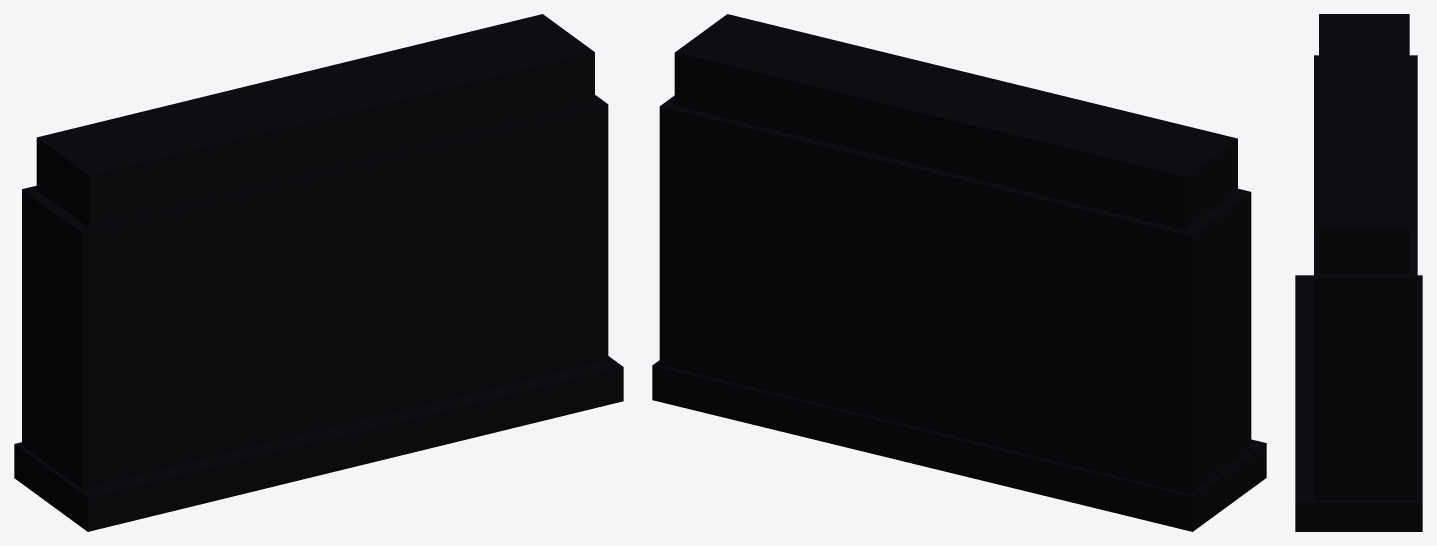
File: COL_ModeBoard_Body.glb
3 views of the same model, side by side, from view 1: azimuth 30°, elevation 25°; view 2: azimuth 150°, elevation 25°; view 3: azimuth 270°, elevation 25° (orthographic). The views are drawn at different scales.
Visible parts, largest first — view 1: COL_ModeBoard_MainGantryHull, COL_ModeBoard_CanopyHull, COL_ModeBoard_BaseHull; view 2: COL_ModeBoard_MainGantryHull, COL_ModeBoard_CanopyHull, COL_ModeBoard_BaseHull; view 3: COL_ModeBoard_MainGantryHull, COL_ModeBoard_CanopyHull, COL_ModeBoard_BaseHull.
Boxes of the visible parts, x1,y1,x2,y2 form: COL_ModeBoard_MainGantryHull: (22,95,608,488); COL_ModeBoard_CanopyHull: (36,14,594,227); COL_ModeBoard_BaseHull: (14,356,623,531); COL_ModeBoard_MainGantryHull: (659,95,1251,493); COL_ModeBoard_CanopyHull: (674,14,1237,229); COL_ModeBoard_BaseHull: (652,360,1266,531); COL_ModeBoard_MainGantryHull: (1314,55,1417,500); COL_ModeBoard_CanopyHull: (1319,14,1409,273); COL_ModeBoard_BaseHull: (1295,275,1422,531).
Bounding box in the file's own units: 14.4 × 8.8 × 3.42.
Materials: 1 (1 with a texture image).
